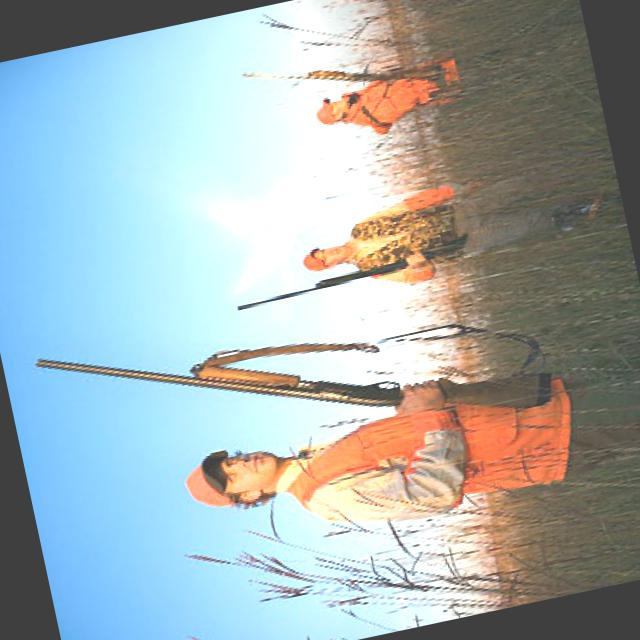long weapon: (28, 252, 549, 524), (219, 228, 482, 325), (234, 27, 450, 129)
